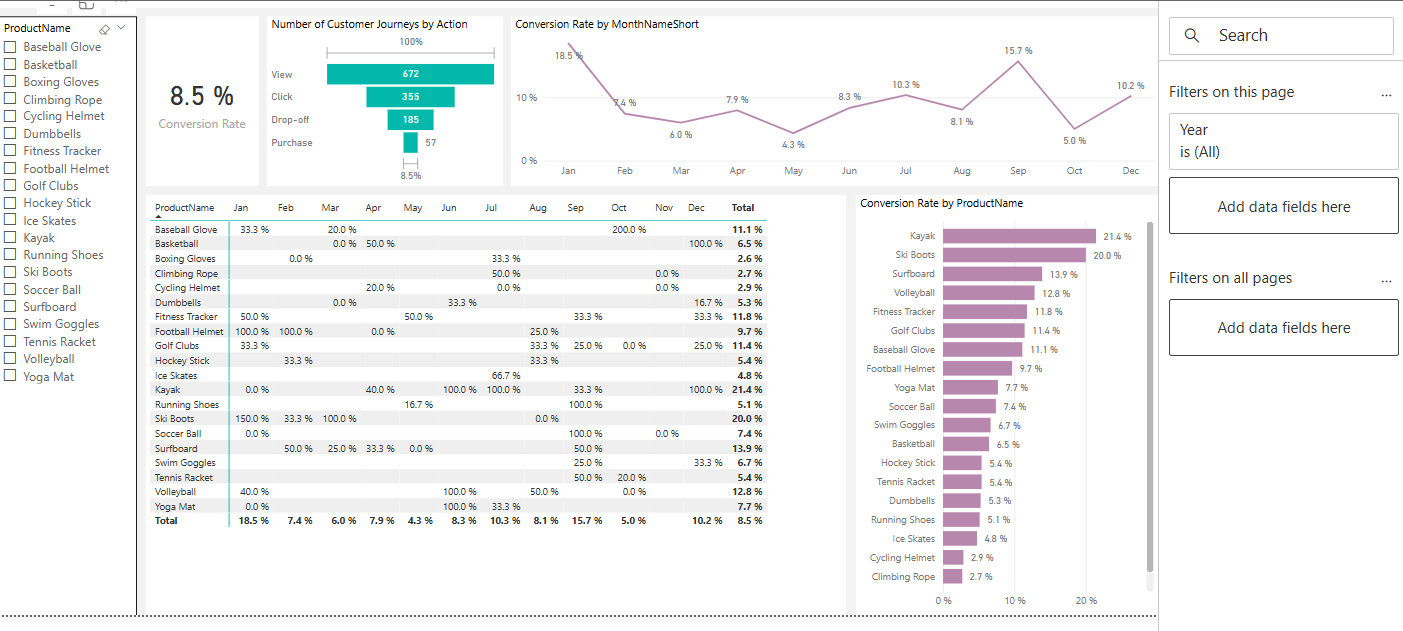

The dashboard page shown, as its layout file describes it:
{"tool":"powerbi","page":{"name":"Conversion Details","canvas":[1280,720],"ordinal":1},"visuals":[{"type":"textbox","box":[0,0,1280,52.6],"z":0},{"type":"slicer","fields":{"Values":["dim_products.ProductName"]},"box":[0,61.9,159.4,658.4],"z":1000},{"type":"card","fields":{"Values":["_Calculations.Conversion Rate"]},"box":[168.5,61.9,123.8,186.7],"z":2000},{"type":"lineChart","fields":{"Y":["_Calculations.Conversion Rate"],"Category":["Calendar.MonthNameShort"]},"box":[570.1,61.9,710.3,186.7],"z":3000},{"type":"clusteredBarChart","fields":{"Category":["dim_products.ProductName"],"Y":["_Calculations.Conversion Rate"]},"box":[948,257.7,332.4,462.6],"z":4000},{"type":"slicer","fields":{"Values":["Calendar.Year"]},"box":[230.2,4.1,208.5,44.4],"z":5000},{"type":"slicer","fields":{"Values":["Calendar.MonthNameShort"]},"box":[448,4.6,832.3,43.7],"z":6000},{"type":"pivotTable","fields":{"Rows":["dim_products.ProductName"],"Values":["_Calculations.Conversion Rate"],"Columns":["Calendar.MonthNameShort"]},"box":[168.5,257.7,768.6,462.6],"z":7000},{"type":"funnel","fields":{"Category":["fact_customer_journey.Action"],"Y":["_Calculations.Number of Customer Journeys"]},"box":[301.4,61.9,259.5,186.7],"z":8000}]}

Visuals, with their boxes on the page's 1280x720 design canvas (x1, y1, x2, y2). These are canvas units, not pixel positions in the 1403x631 screenshot, which may show the page scaled, cropped or inside an application window:
textbox: region(0, 0, 1280, 53)
slicer - dim_products.ProductName: region(0, 62, 159, 720)
card - _Calculations.Conversion Rate: region(168, 62, 292, 249)
lineChart - _Calculations.Conversion Rate x Calendar.MonthNameShort: region(570, 62, 1280, 249)
clusteredBarChart - dim_products.ProductName x _Calculations.Conversion Rate: region(948, 258, 1280, 720)
slicer - Calendar.Year: region(230, 4, 439, 48)
slicer - Calendar.MonthNameShort: region(448, 5, 1280, 48)
pivotTable - dim_products.ProductName x _Calculations.Conversion Rate: region(168, 258, 937, 720)
funnel - fact_customer_journey.Action x _Calculations.Number of Customer Journeys: region(301, 62, 561, 249)
